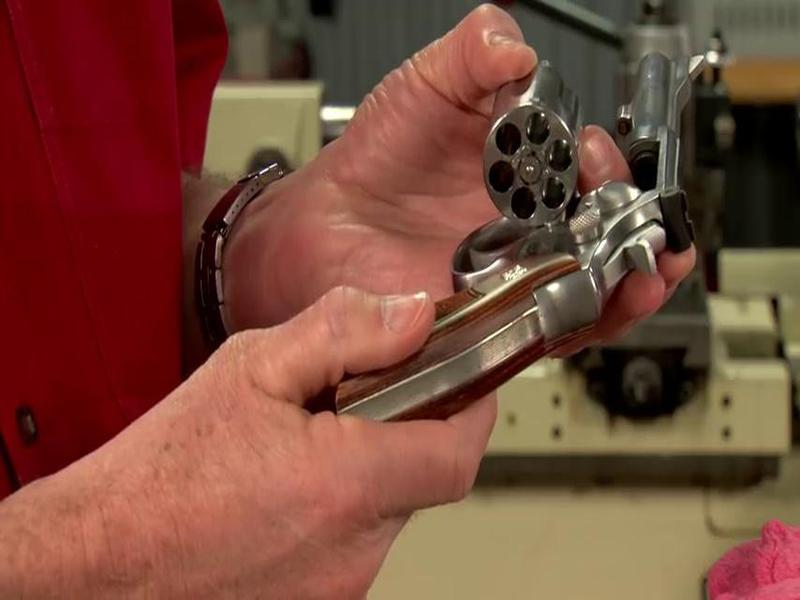Revolver: (335, 24, 745, 427)
